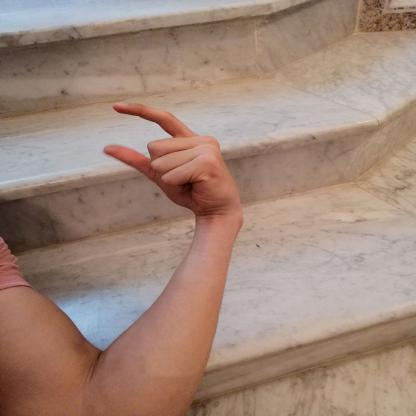DELL: (90, 97, 252, 219)
